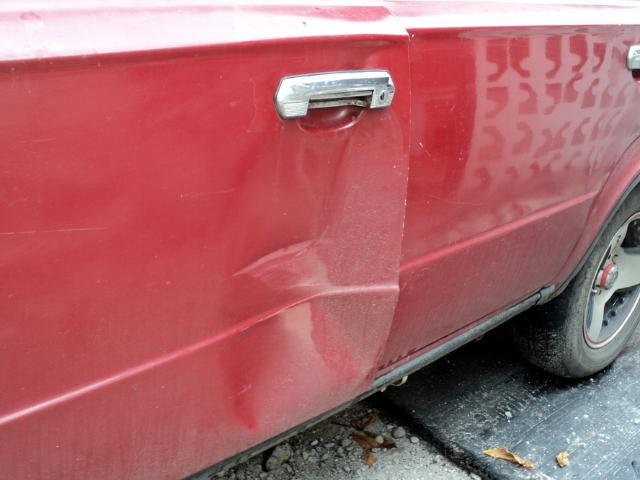Door: (212, 170, 406, 464)
